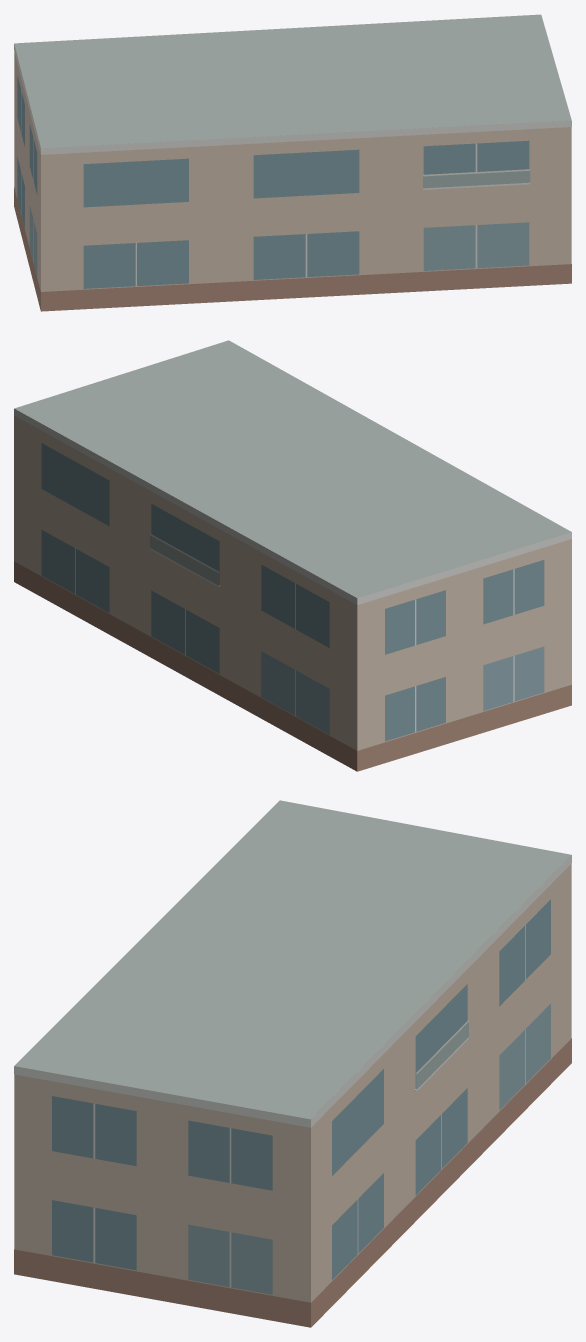
Rendered from survey-upis-32574007.glb.
3 views of the same model, one above another, from view 1: azimuth 30°, elevation 25°; view 2: azimuth 150°, elevation 25°; view 3: azimuth 270°, elevation 25° (orthographic). The views are drawn at different scales.
Visible parts, largest first — view 1: survey-upis-32574007.tmp; view 2: survey-upis-32574007.tmp; view 3: survey-upis-32574007.tmp.
Part boxes in pixels (box(x1,y1,x2,y2)): survey-upis-32574007.tmp: box(14, 14, 571, 311); survey-upis-32574007.tmp: box(14, 340, 571, 771); survey-upis-32574007.tmp: box(14, 800, 571, 1327).
Size of the model in its own units: 20.07 by 6.1 by 14.82.
